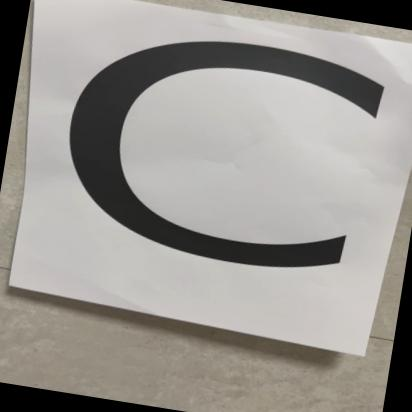seat: (0, 0, 412, 354)
